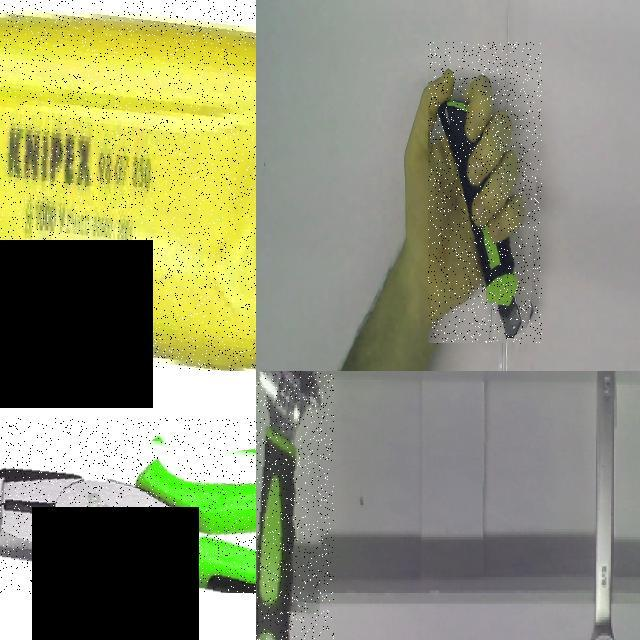estilete: (439, 99, 521, 337)
